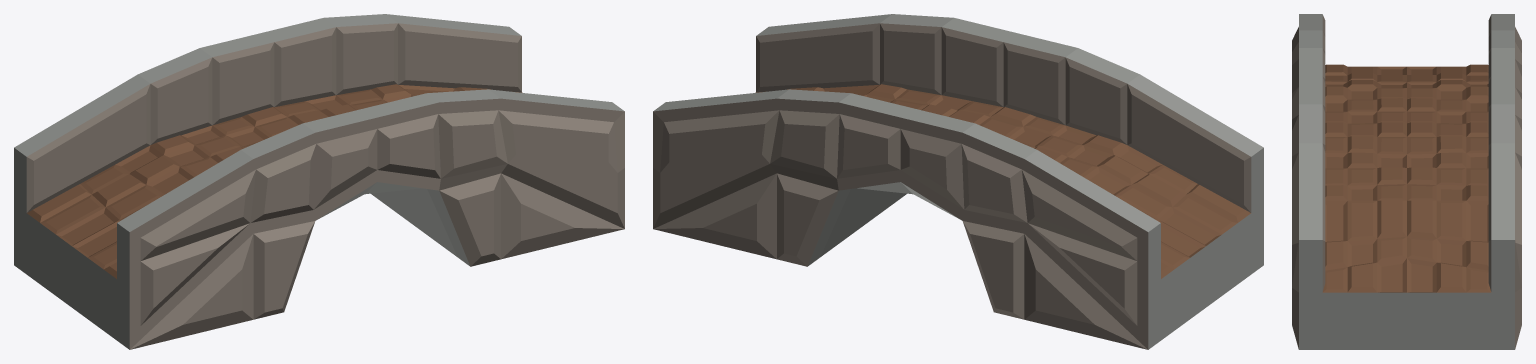
Rendered from Town Bridge.fbx.
The picture shows the model from 3 angles, left to right: view 1: azimuth 30°, elevation 25°; view 2: azimuth 150°, elevation 25°; view 3: azimuth 270°, elevation 25°; orthographic projection. The views are drawn at different scales.
Parts seen in each view (by area): view 1: Town Bridge; view 2: Town Bridge; view 3: Town Bridge.
Boxes of the visible parts, x1,y1,x2,y2 form: Town Bridge: (14, 14, 624, 349); Town Bridge: (653, 14, 1263, 349); Town Bridge: (1292, 14, 1521, 349).
Bounding box in the file's own units: 20499 × 6802 × 8816.
